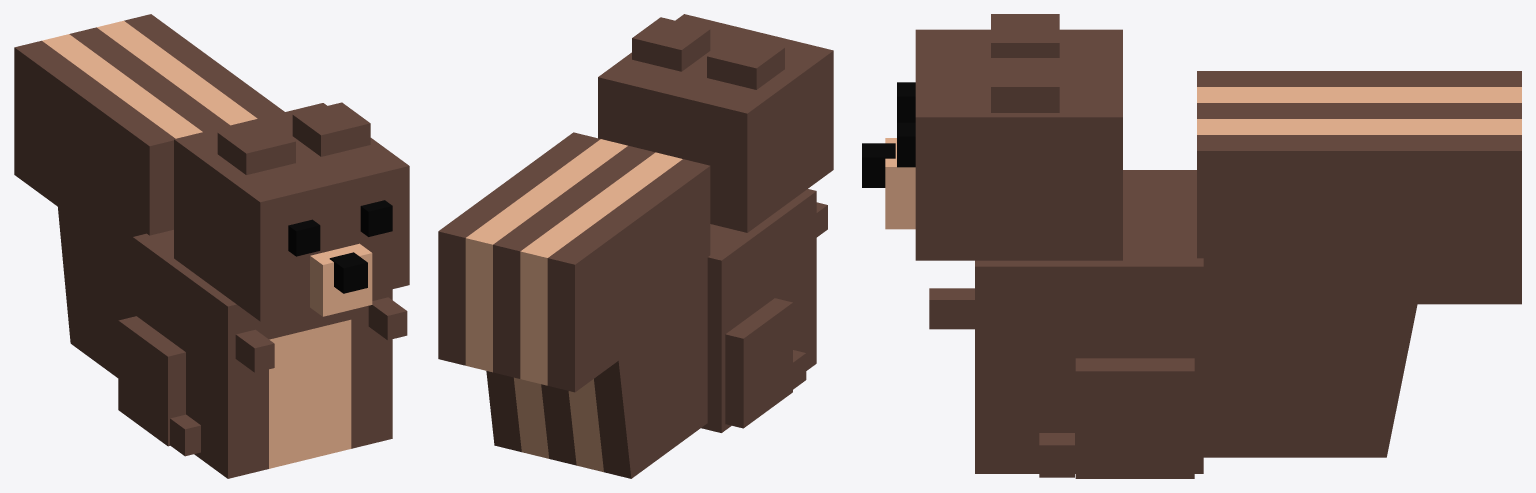
Rendered from squirrel.fbx.
3 views of the same model, side by side, from view 1: azimuth 30°, elevation 25°; view 2: azimuth 150°, elevation 25°; view 3: azimuth 270°, elevation 25° (orthographic). The views are drawn at different scales.
Visible parts, largest first — view 1: squirrel; view 2: squirrel; view 3: squirrel.
Boxes of the visible parts, <box> form: squirrel: <box>14,14,409,478</box>; squirrel: <box>438,14,833,478</box>; squirrel: <box>862,14,1521,478</box>.
Bounding box in the file's own units: 29.92 × 43.95 × 69.52.
